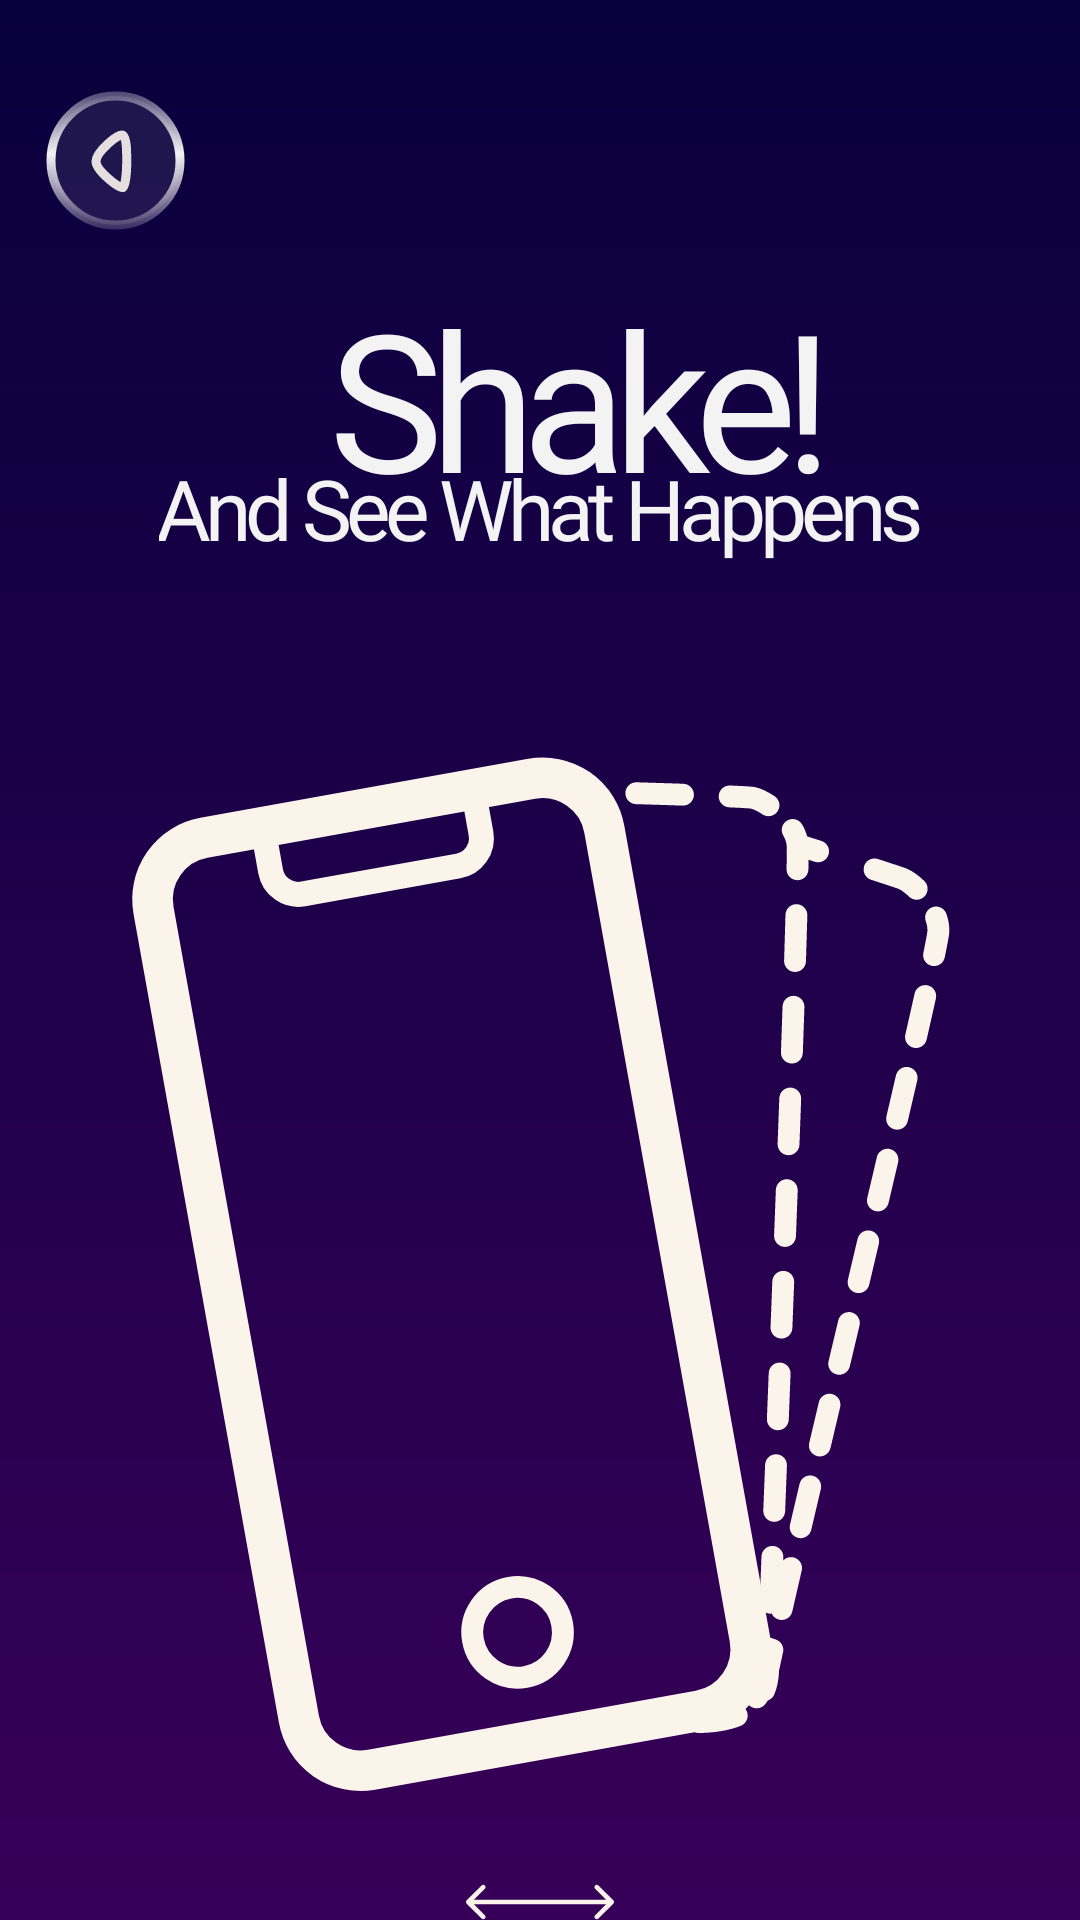

Named icons in this screenshot (1080*1920) and their centers, point (x, y):
arrow: point (540, 1902)
back: point (115, 160)
